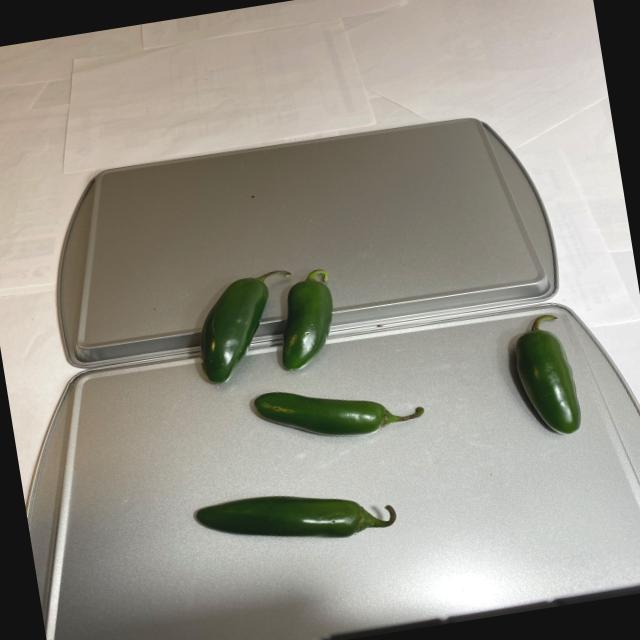chilli: (175, 225, 598, 560)
